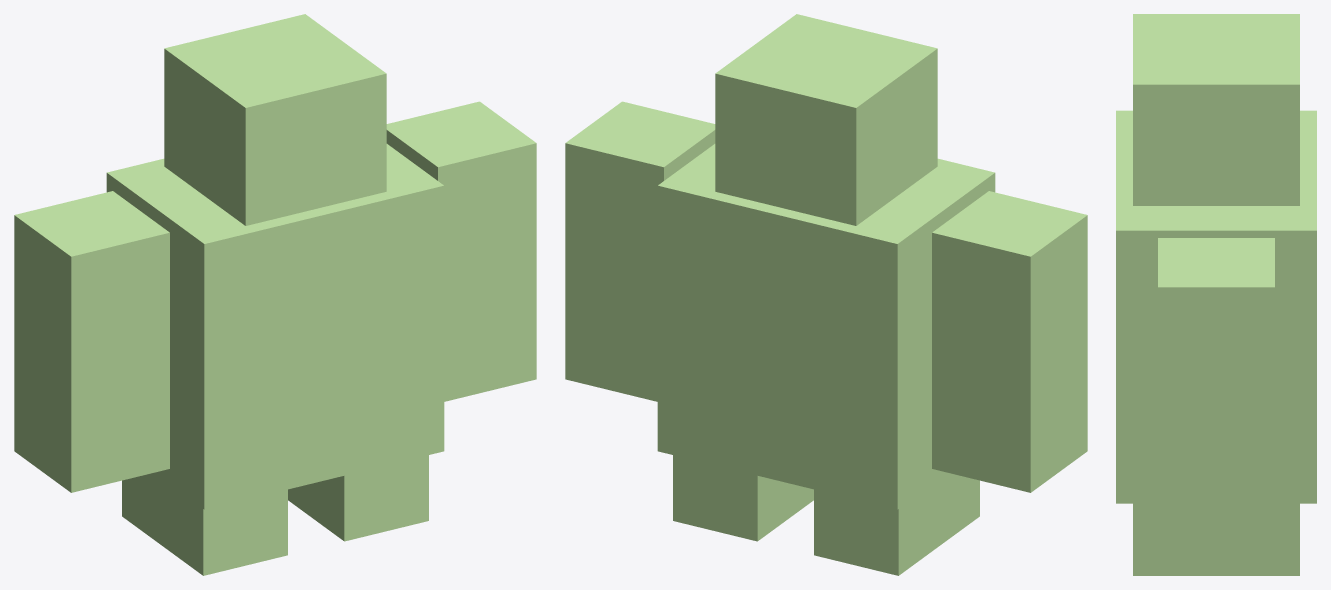
The model's file is heavy.gltf.
3 views of the same model, side by side, from view 1: azimuth 30°, elevation 25°; view 2: azimuth 150°, elevation 25°; view 3: azimuth 270°, elevation 25° (orthographic). The views are drawn at different scales.
Parts seen in each view (by area): view 1: heavy; view 2: heavy; view 3: heavy.
Part boxes in pixels (left/top/right/bottom): heavy: left=14, top=14, right=536, bottom=575; heavy: left=565, top=14, right=1087, bottom=575; heavy: left=1116, top=14, right=1316, bottom=575.
Bounding box in the file's own units: 1.65 × 1.55 × 0.6.
